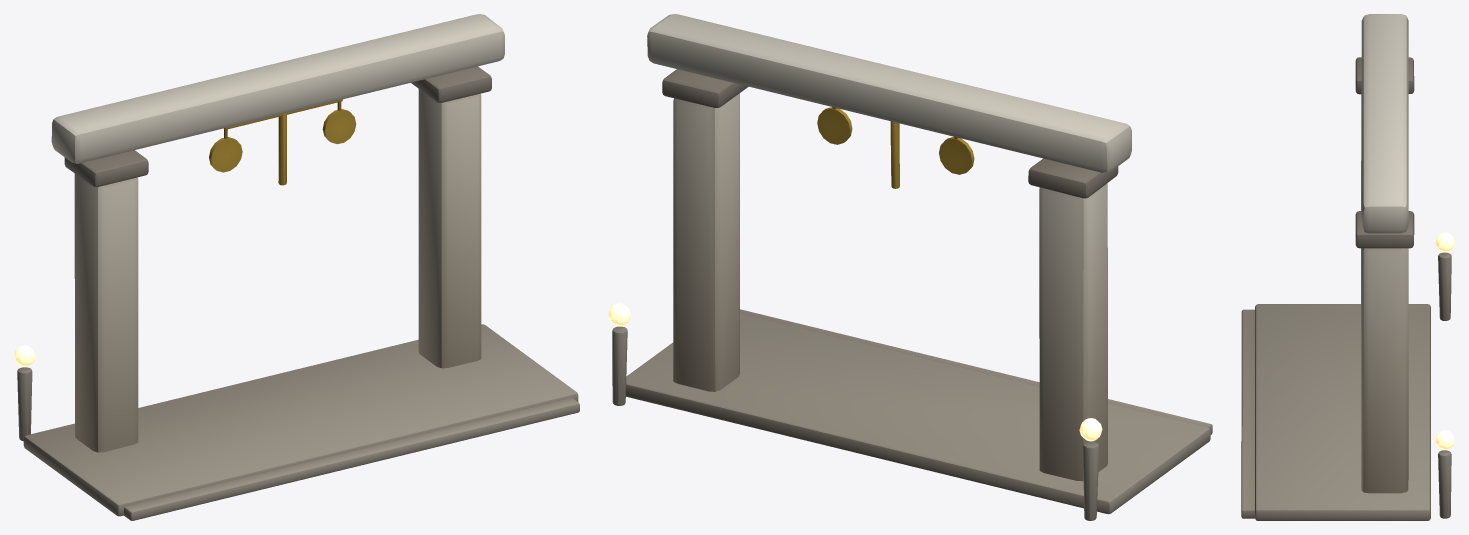
3 views of the same model, side by side, from view 1: azimuth 30°, elevation 25°; view 2: azimuth 150°, elevation 25°; view 3: azimuth 270°, elevation 25° (orthographic). The views are drawn at different scales.
Visible parts, largest first — view 1: gate_4e3c9abd; view 2: gate_4e3c9abd; view 3: gate_4e3c9abd.
Part boxes in pixels (bbox=[...]): gate_4e3c9abd: bbox=[14, 14, 579, 520]; gate_4e3c9abd: bbox=[608, 14, 1212, 520]; gate_4e3c9abd: bbox=[1241, 14, 1454, 520].
Bounding box in the file's own units: 5.85 × 4.1 × 2.55.
